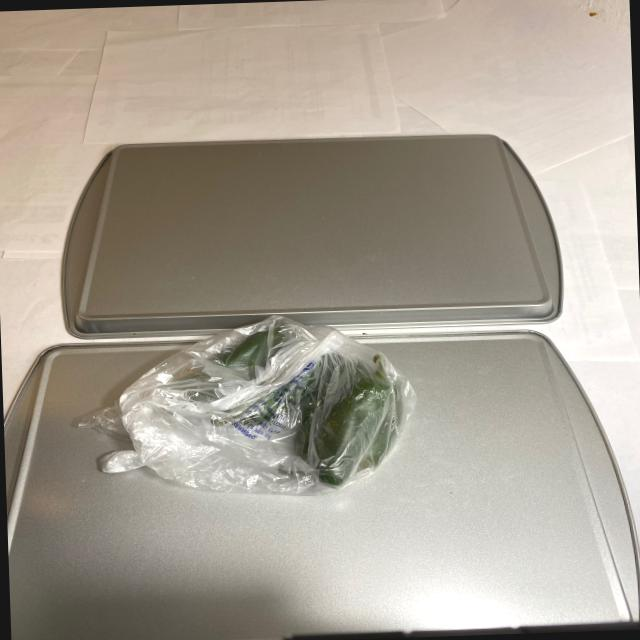chilli: (191, 316, 412, 494)
